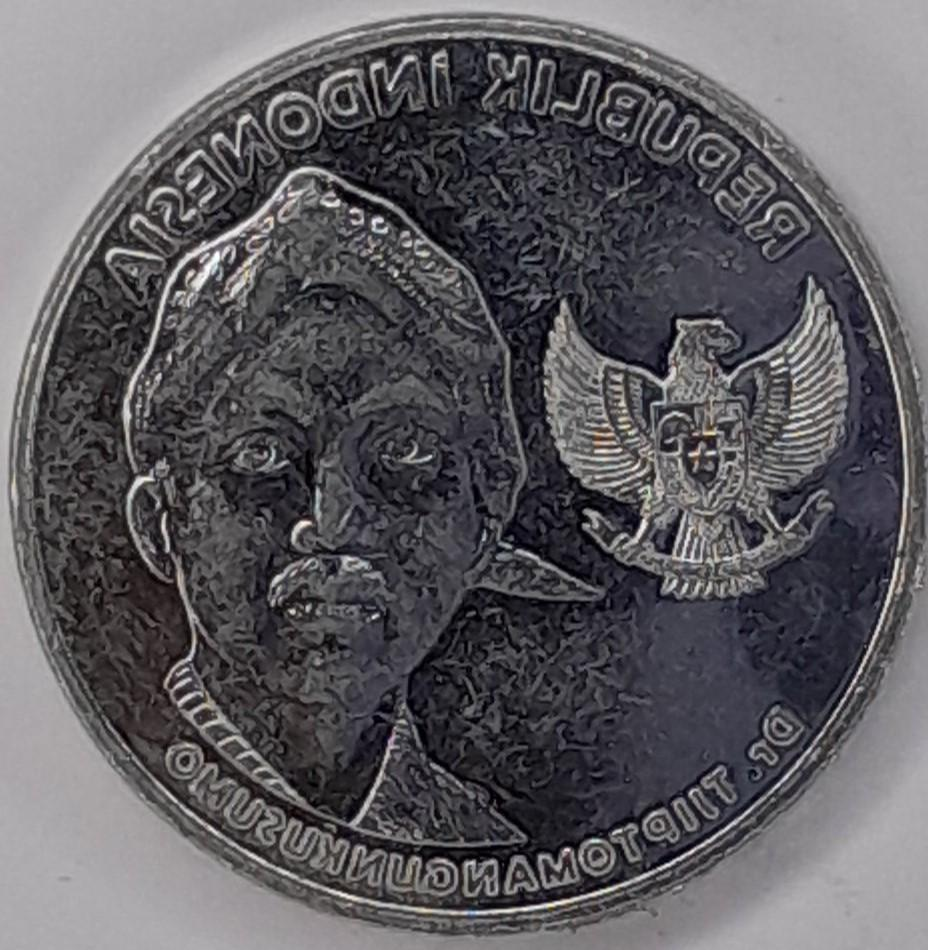coin_200_e2016: (0, 16, 928, 950)
